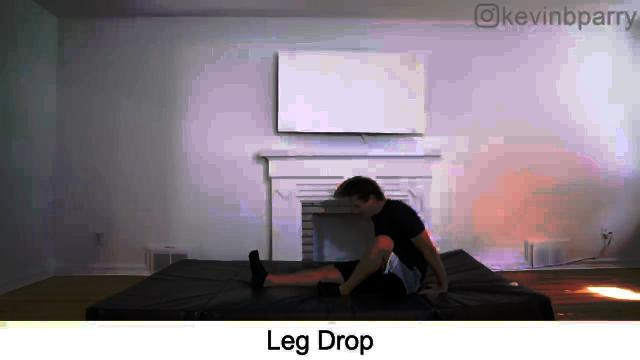jatuh: (241, 172, 457, 314)
